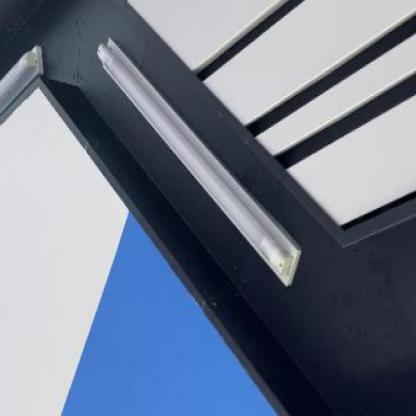light_off: (91, 14, 308, 300), (0, 9, 51, 242)
